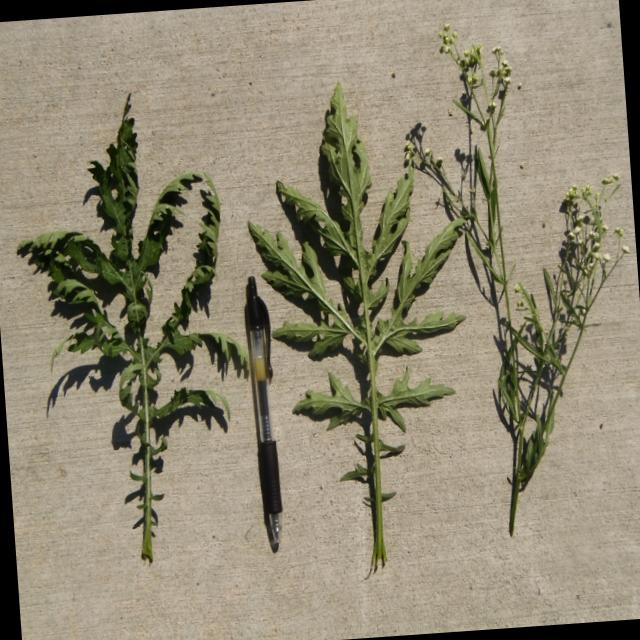Poisonous-Parthenium: (6, 84, 260, 566), (241, 70, 479, 584), (418, 2, 640, 538)
